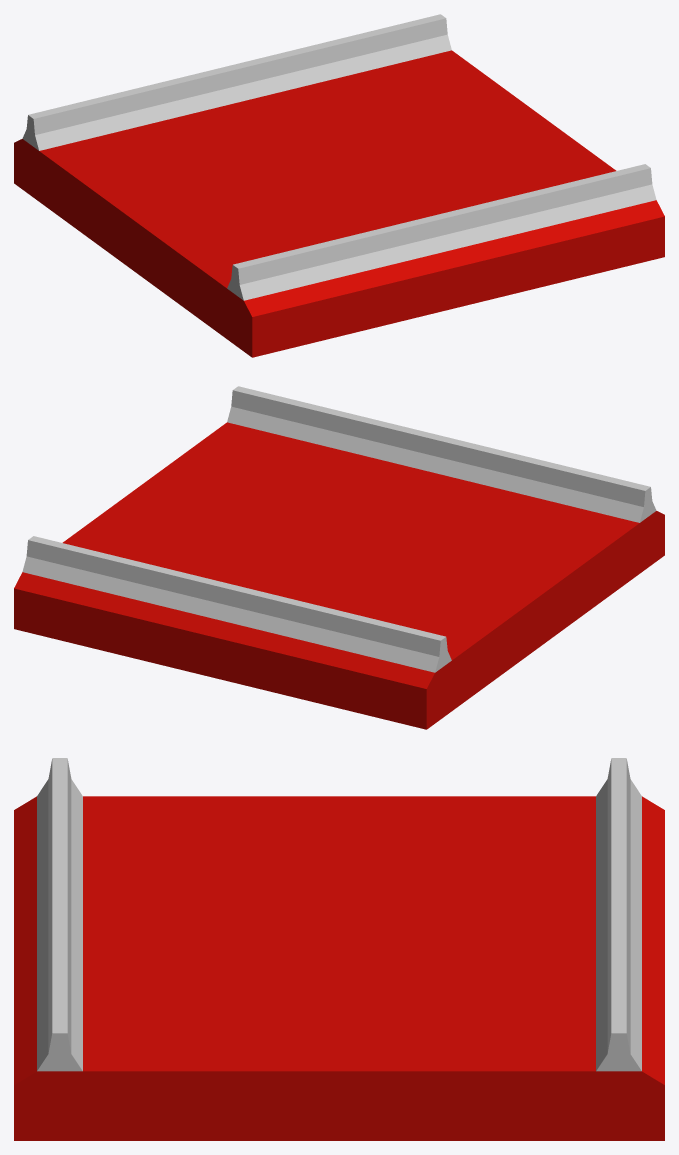
Rendered from SM_Road_Highway_Exchanger_Ramp.fbx.
3 renders of one model, top to bottom at view 1: azimuth 30°, elevation 25°; view 2: azimuth 150°, elevation 25°; view 3: azimuth 270°, elevation 25°, orthographic. The views are drawn at different scales.
Parts seen in each view (by area): view 1: Highway_Exchanger_Ramp; view 2: Highway_Exchanger_Ramp; view 3: Highway_Exchanger_Ramp.
Boxes of the visible parts, box(x1,y1,x2,y2) form: Highway_Exchanger_Ramp: box(14, 14, 664, 357); Highway_Exchanger_Ramp: box(14, 386, 664, 729); Highway_Exchanger_Ramp: box(14, 758, 664, 1140).
Size of the model in its own units: 1700 by 310 by 1700.
